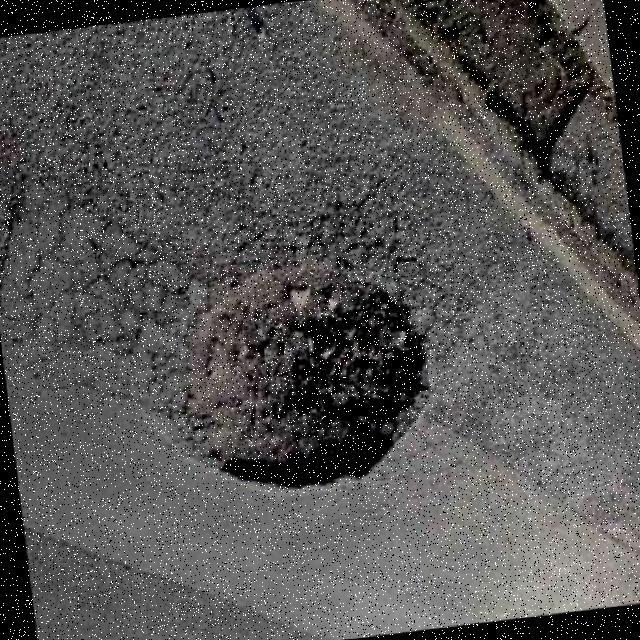Pothole: (177, 279, 428, 488)
